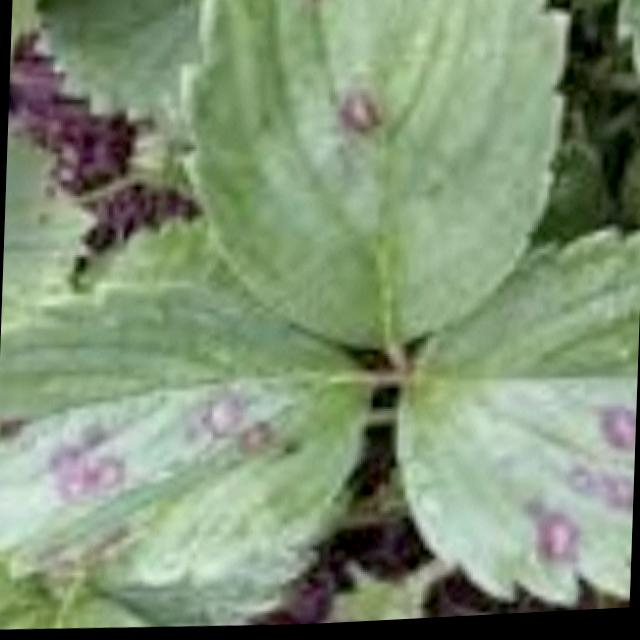Leaf Spot: (178, 0, 569, 354), (0, 283, 373, 628), (390, 232, 640, 610)
